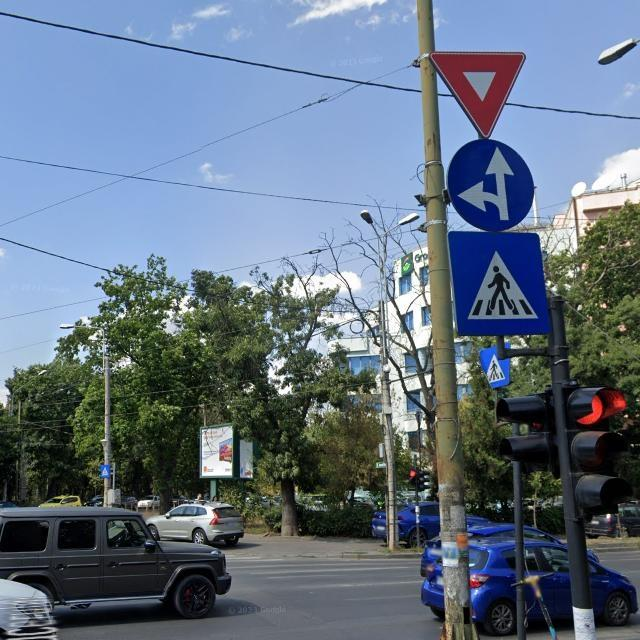info_crosswalk: (447, 231, 551, 335), (481, 347, 510, 388), (100, 465, 110, 478)
prio_give_way: (429, 49, 527, 140)
